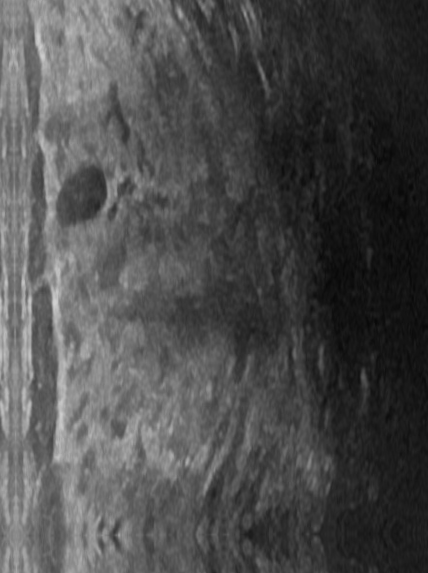Benign: (51, 161, 115, 231)
